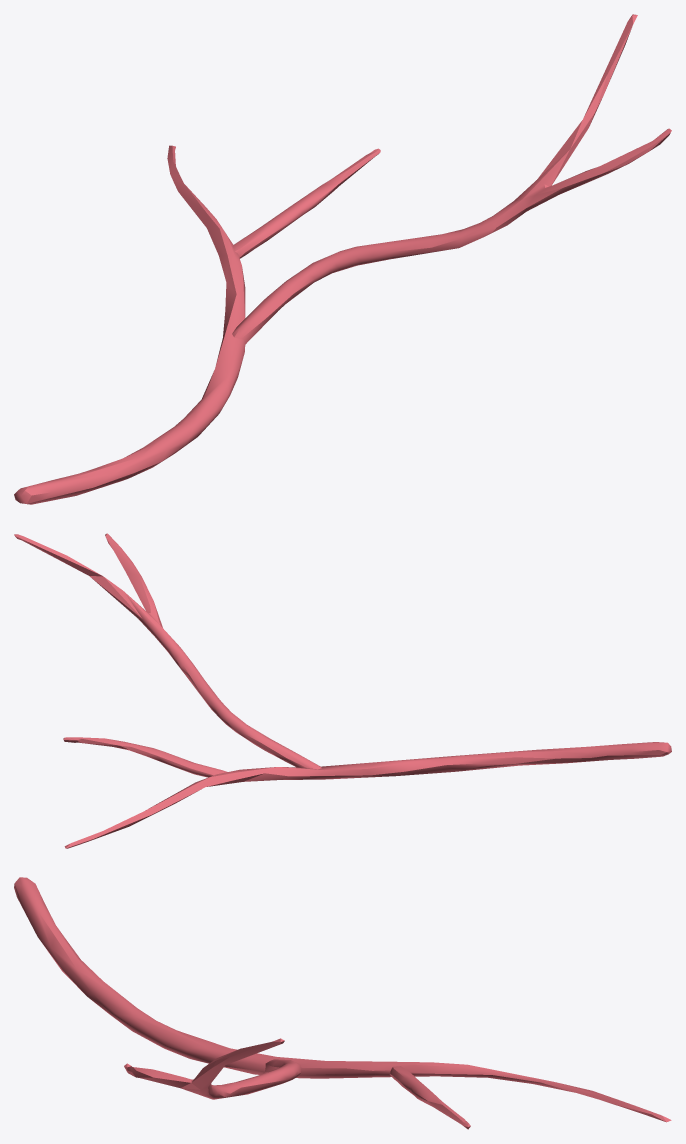
Rendered from fma52452_cx115.glb.
3 views of the same model, one above another, from view 1: azimuth 30°, elevation 25°; view 2: azimuth 150°, elevation 25°; view 3: azimuth 270°, elevation 25° (orthographic). The views are drawn at different scales.
Visible parts, largest first — view 1: FMA52452_CX115; view 2: FMA52452_CX115; view 3: FMA52452_CX115.
Boxes of the visible parts, left/top/right/bottom form: FMA52452_CX115: left=14, top=14, right=671, bottom=504; FMA52452_CX115: left=14, top=533, right=671, bottom=848; FMA52452_CX115: left=14, top=877, right=671, bottom=1129.
Bounding box in the file's own units: 0.04 × 0.0125 × 0.0309.
